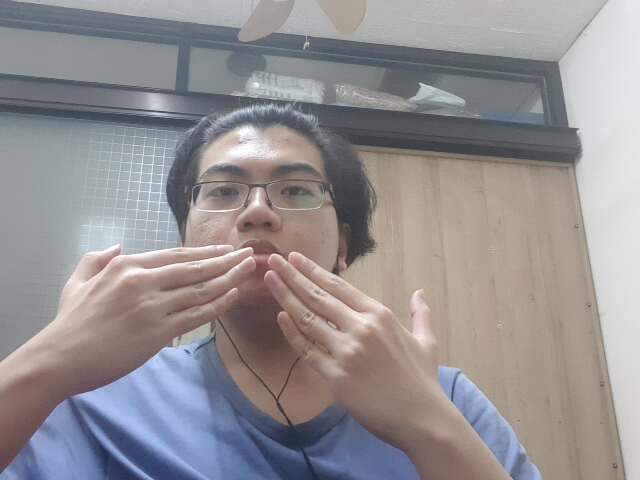thanks: (45, 238, 478, 447)
